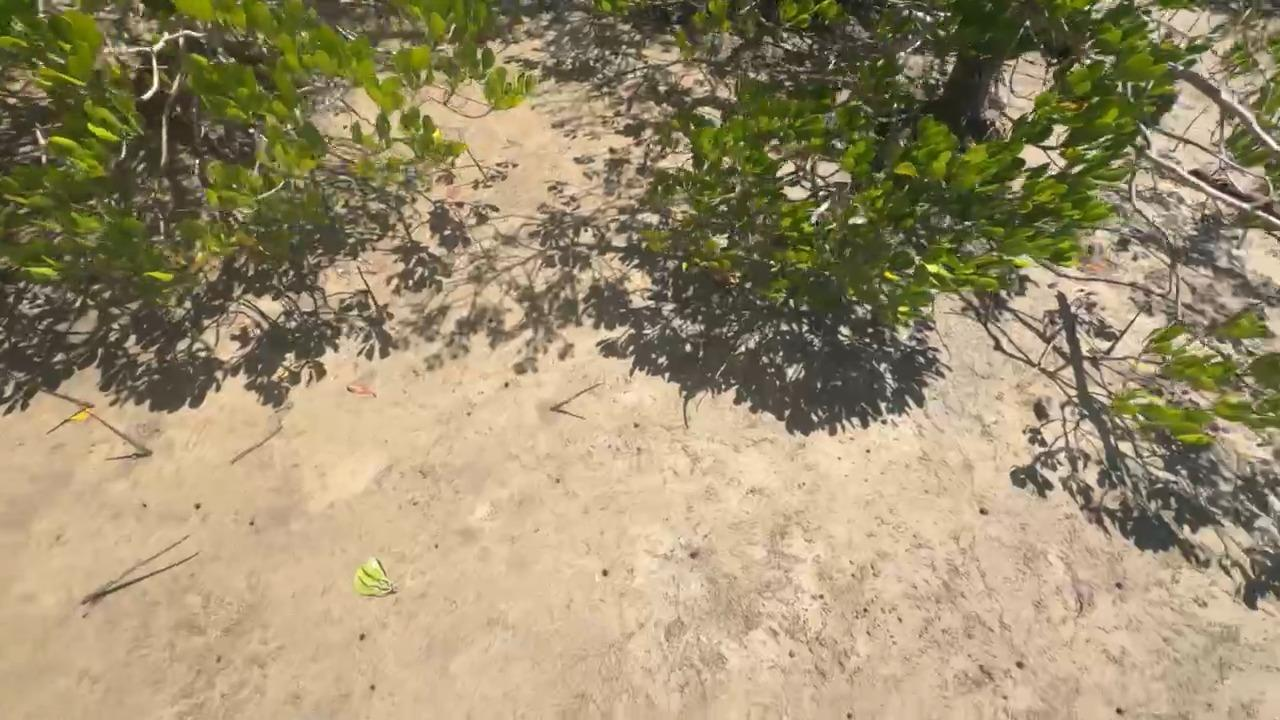Tree: (82, 538, 188, 606), (79, 407, 152, 457), (550, 382, 600, 410), (32, 385, 93, 406)
